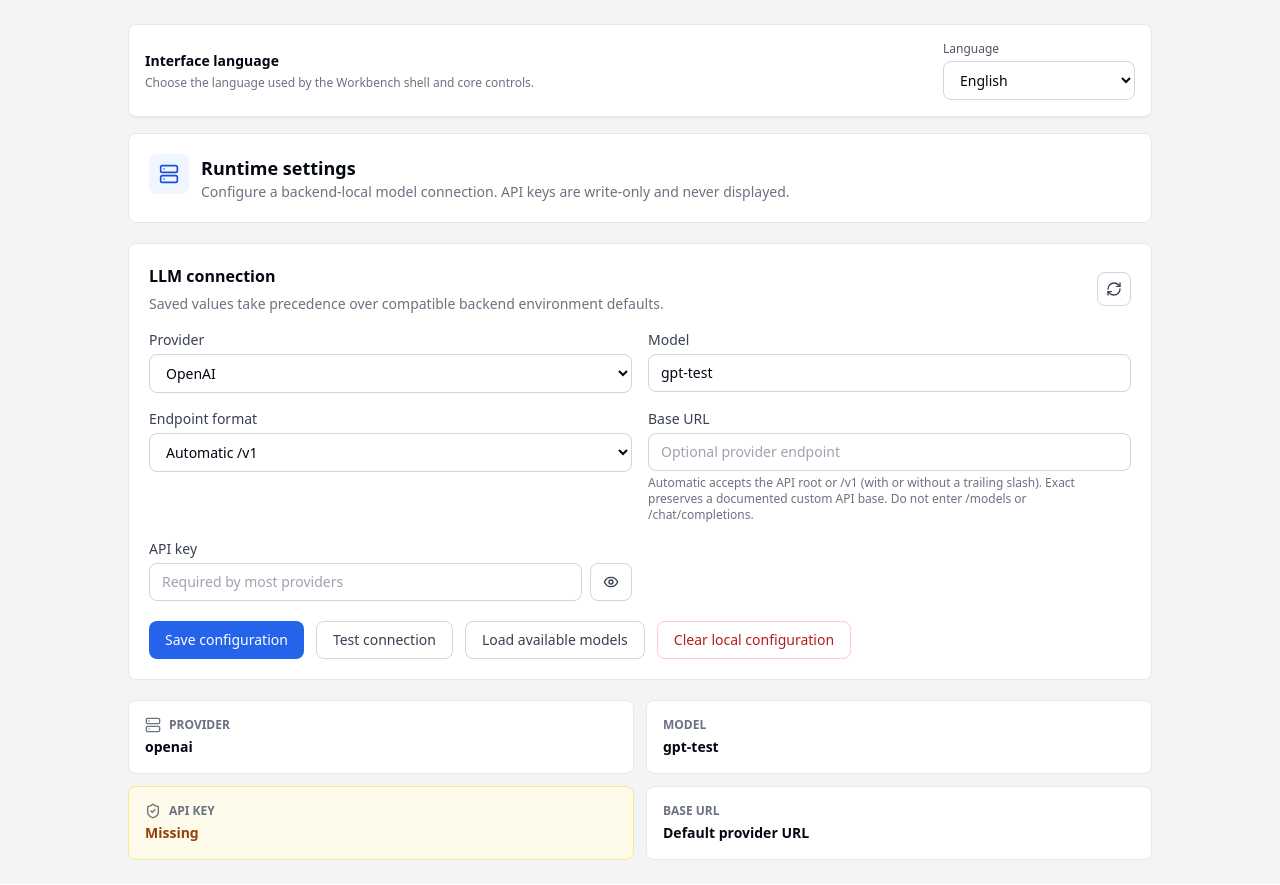
SettingsView › clears connection details before a retry
Expected: the heading "Runtime settings" is shown, left=201, top=156, right=356, bottom=180
Click the button "Test connection" at [384, 640], box left=316, top=621, right=453, bottom=659
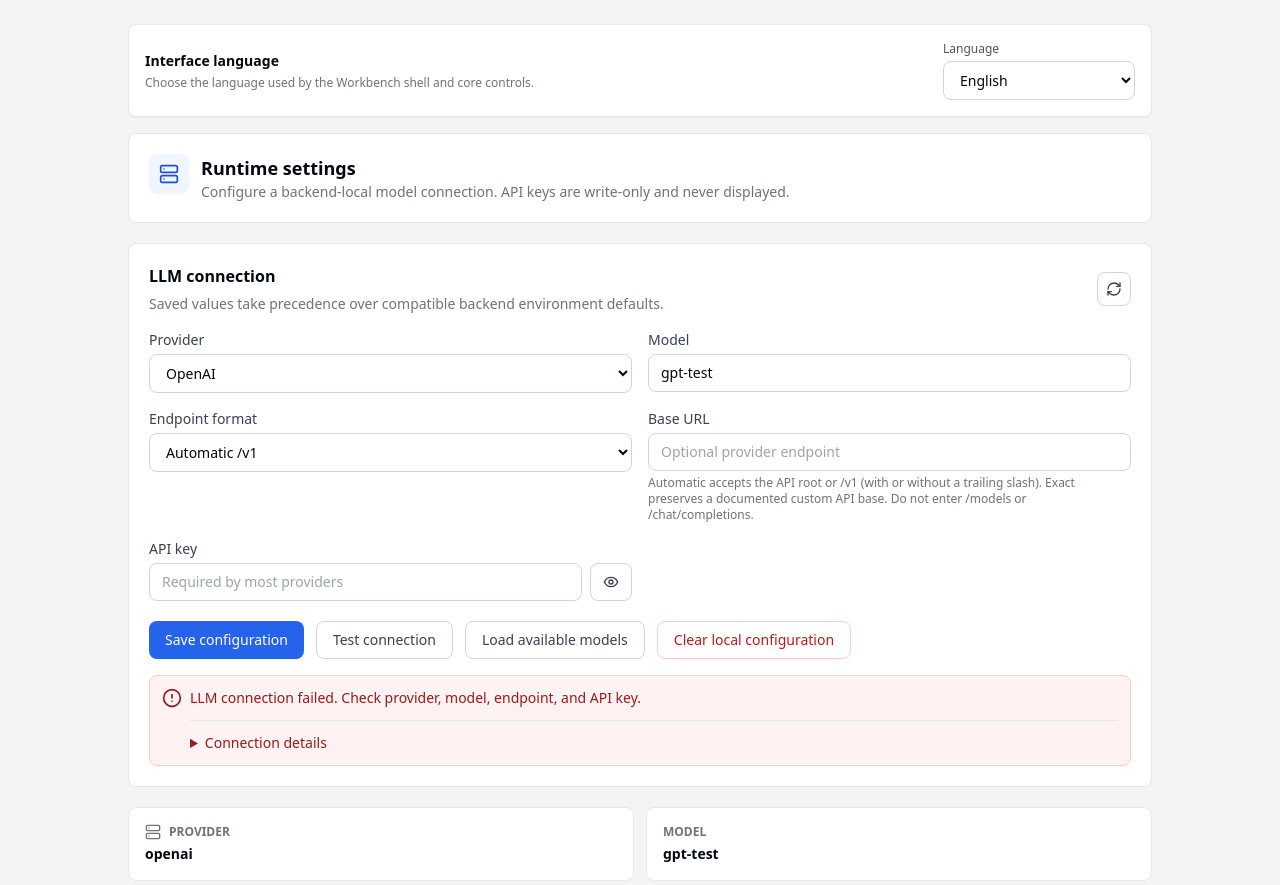
Now the heading "Connection details" is shown, box left=205, top=733, right=327, bottom=752
Click the button "Test connection" at [384, 640], box left=316, top=621, right=453, bottom=659
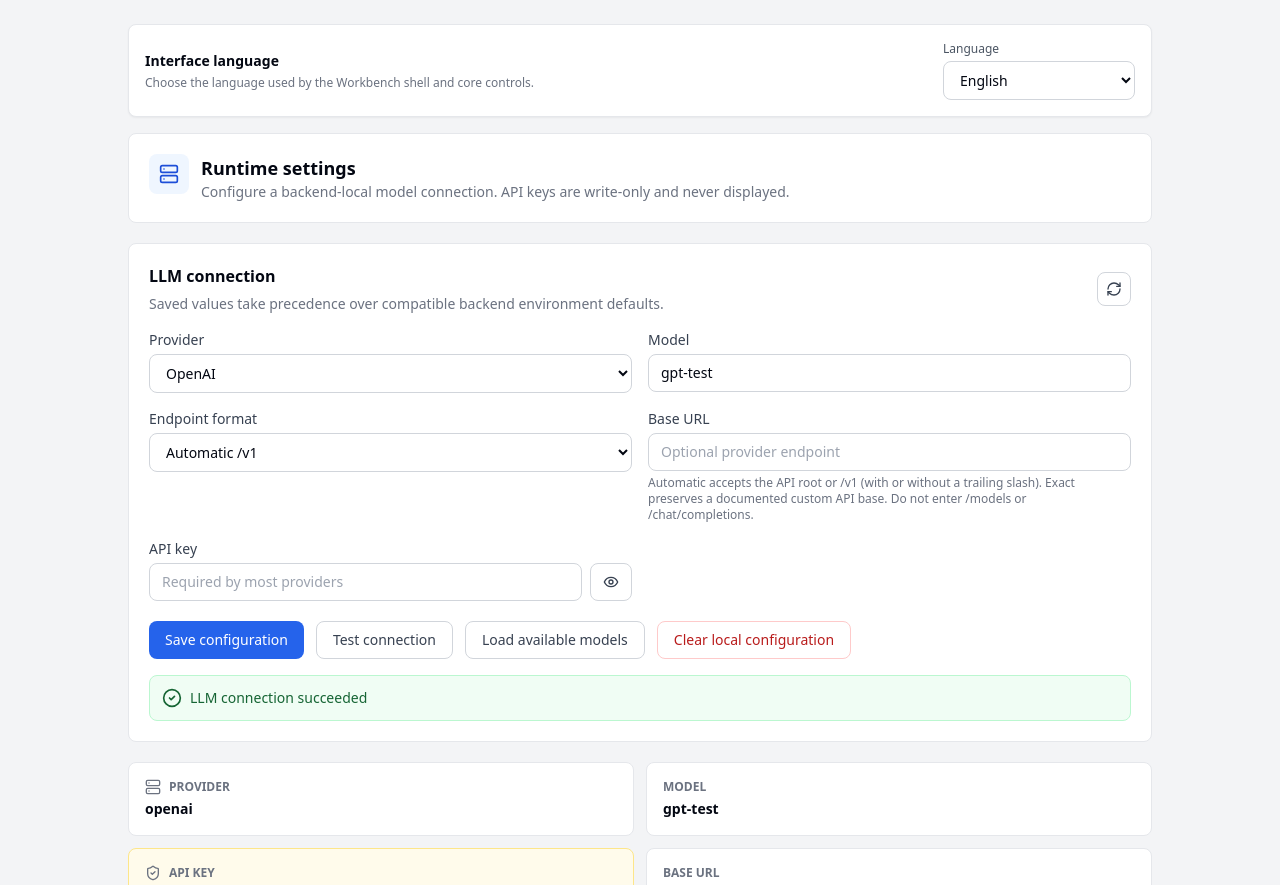
Now the heading "Connection details" is gone
